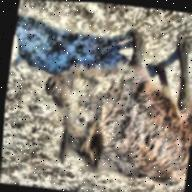boar: (31, 30, 192, 192)
